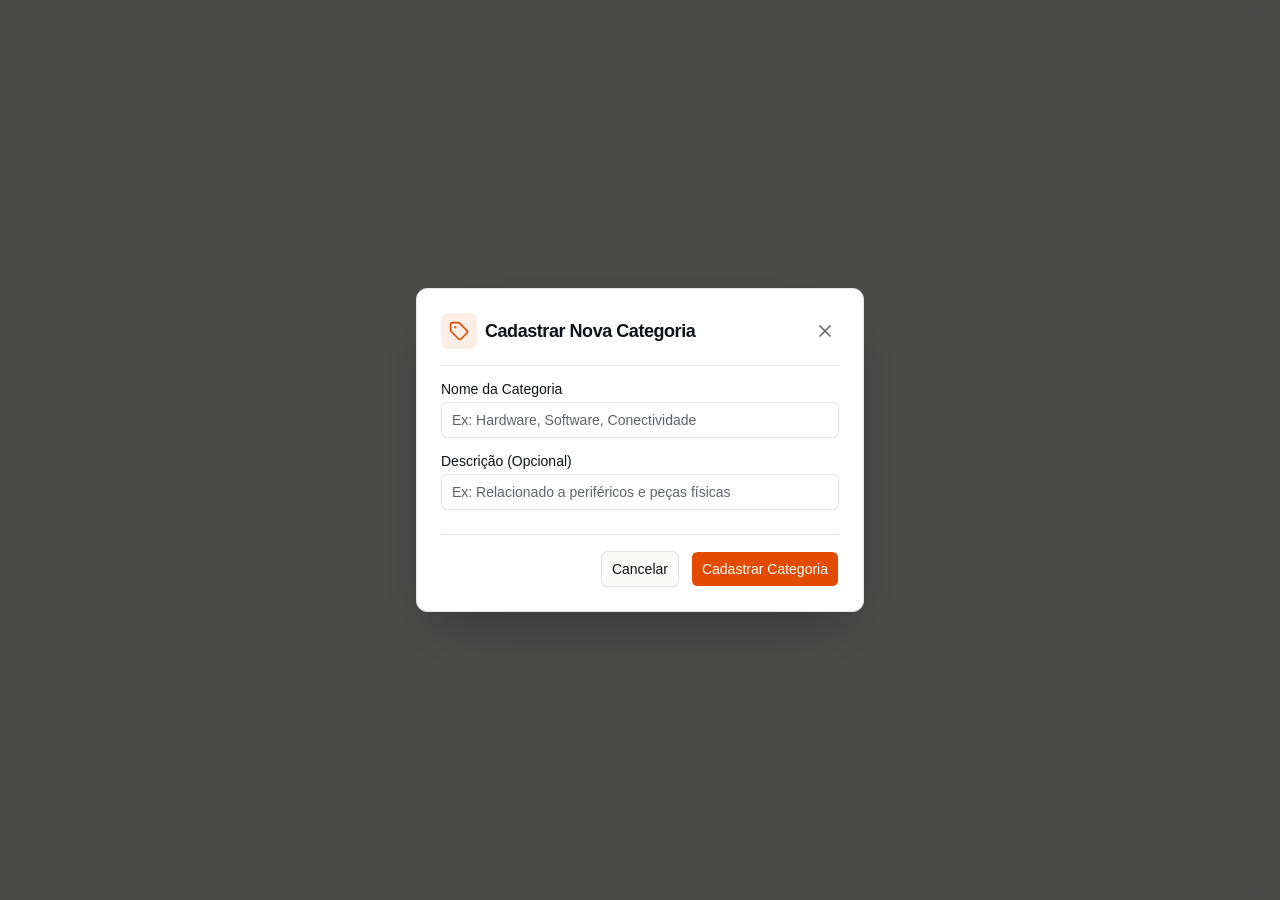
CreateCategoryModal › deve exibir mensagem de erro quando a API rejeitar a submissão (ex: nome duplicado)
This screenshot has width=1280, height=900.
Type "Hardware" into the field labelled "Nome da Categoria" at (640, 420), box [441, 402, 839, 438]
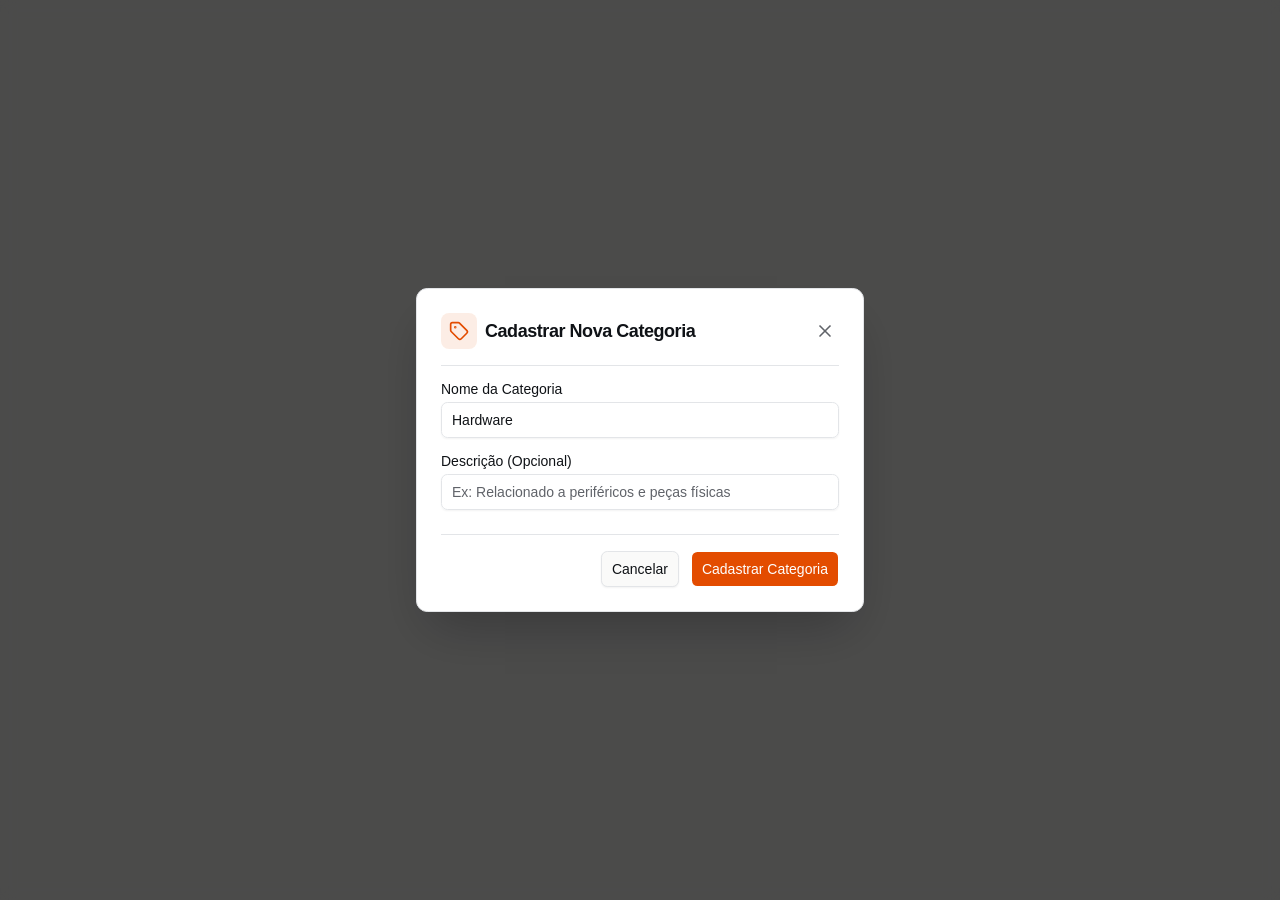
Click the button "Cadastrar Categoria" at (765, 569), box [691, 551, 839, 587]
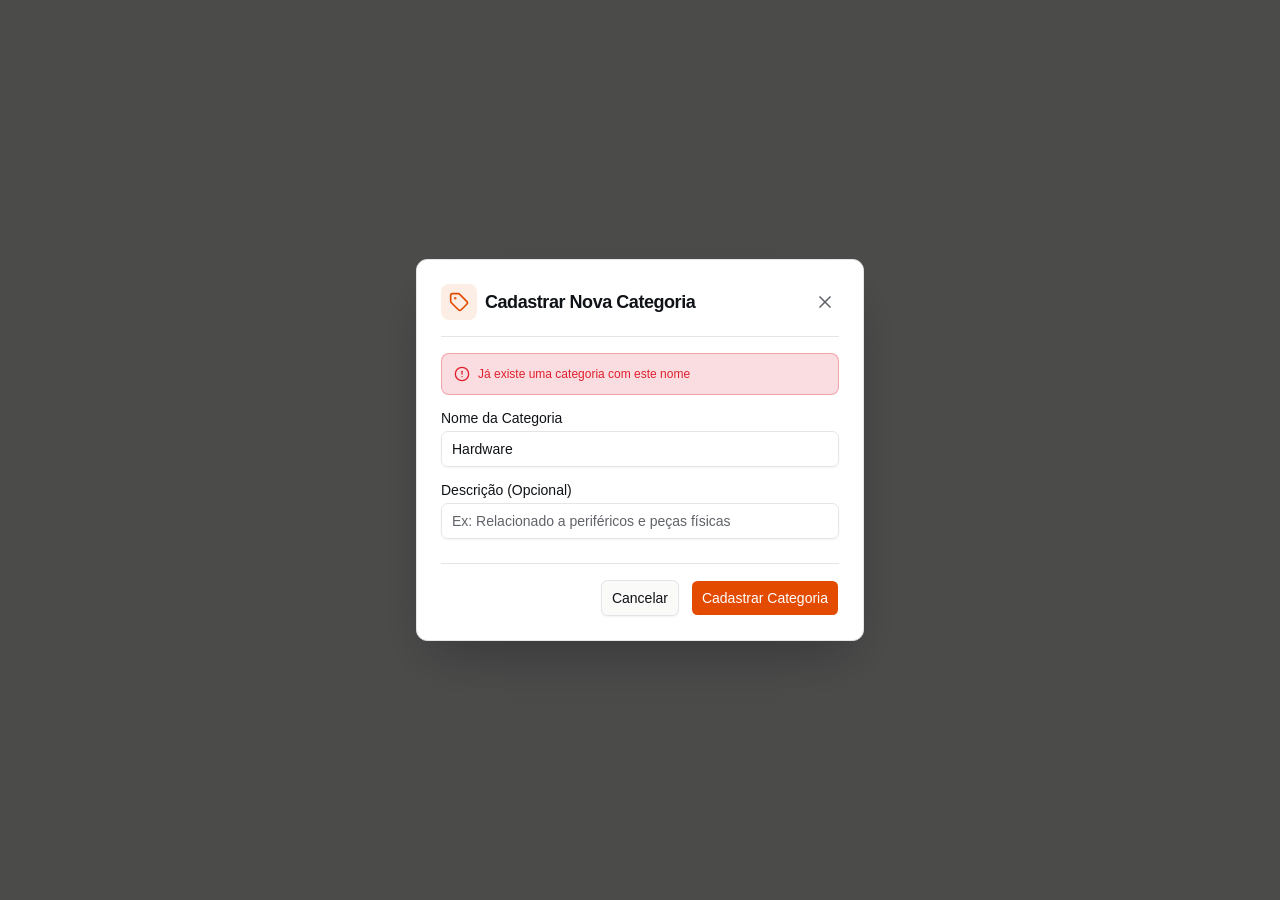
Expected: the text "Já existe uma categoria com este nome" is shown, [478, 366, 690, 382]
